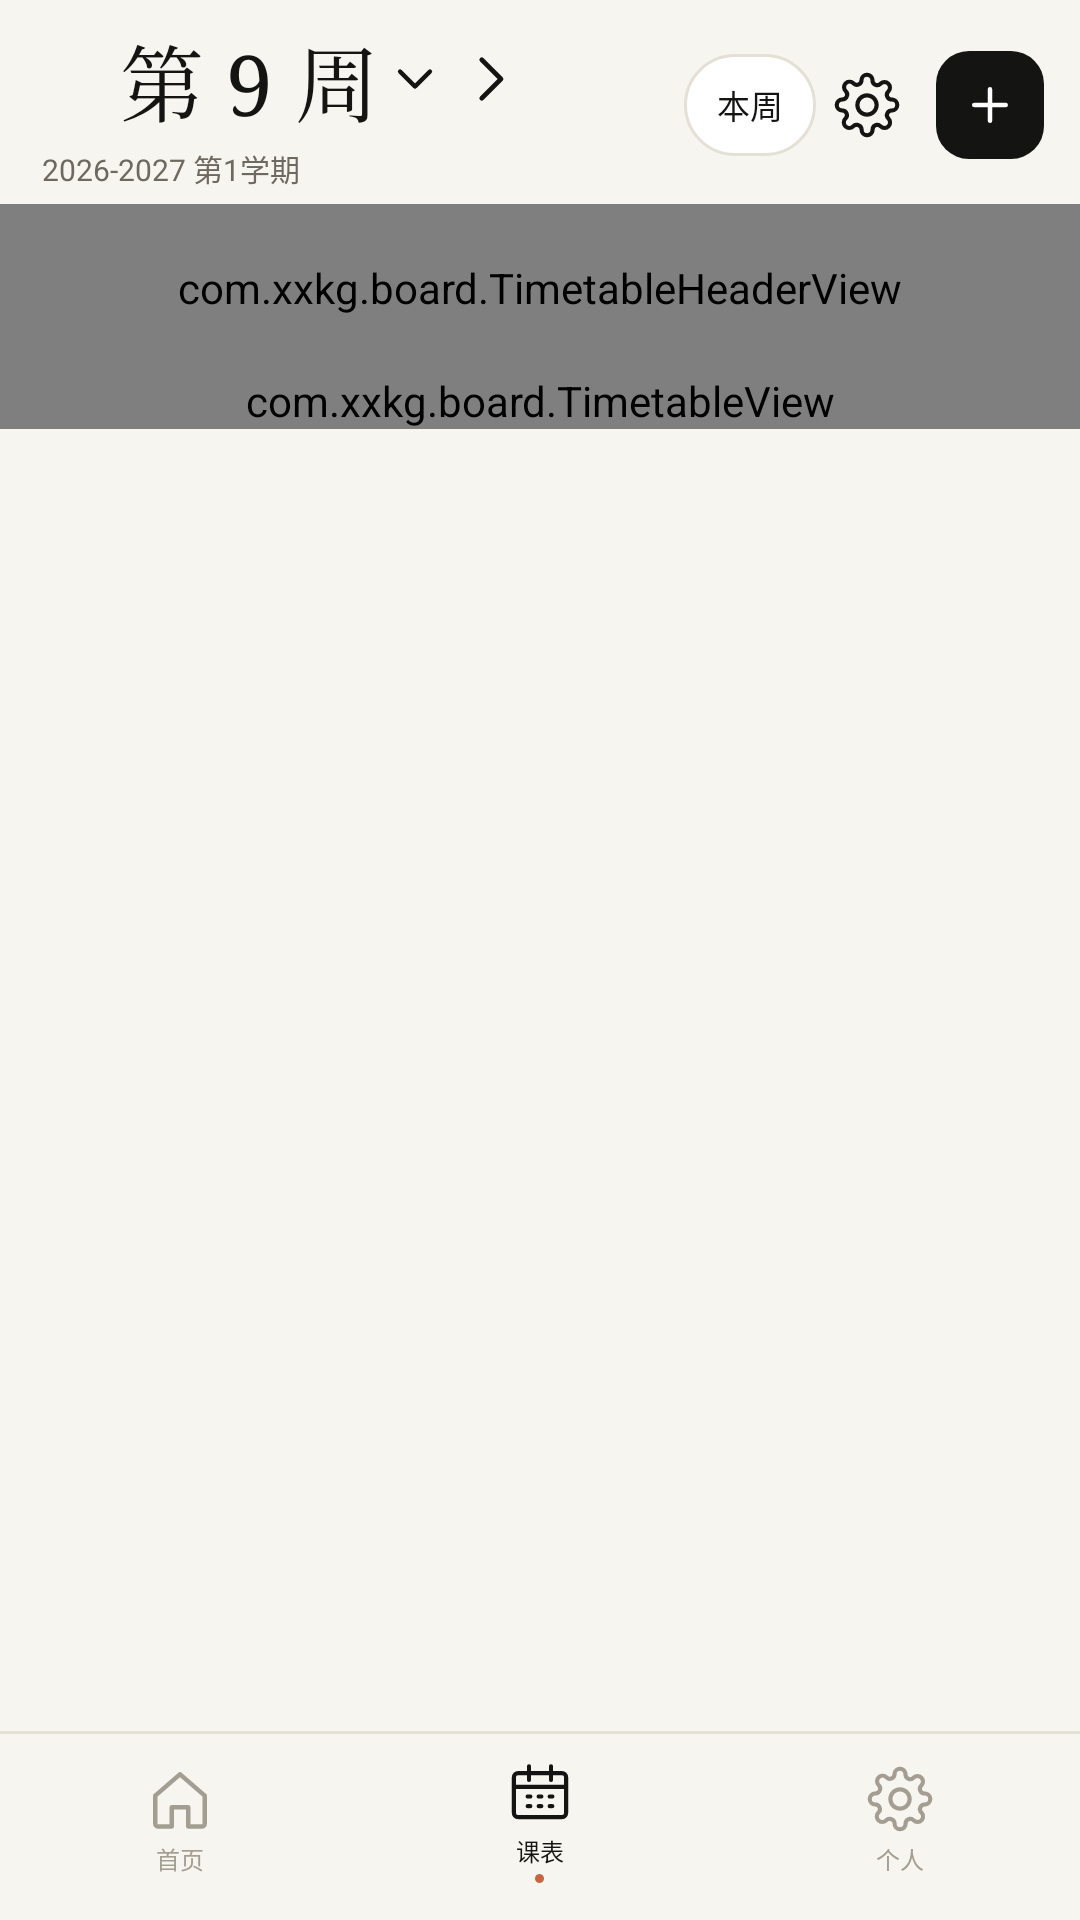

Where to tap for icons on this 1080 x 1920 app screen, as point (x, y):
下一周: point (491, 79)
添加课程: point (990, 105)
课表设置: point (867, 105)
选择周次: point (415, 79)
